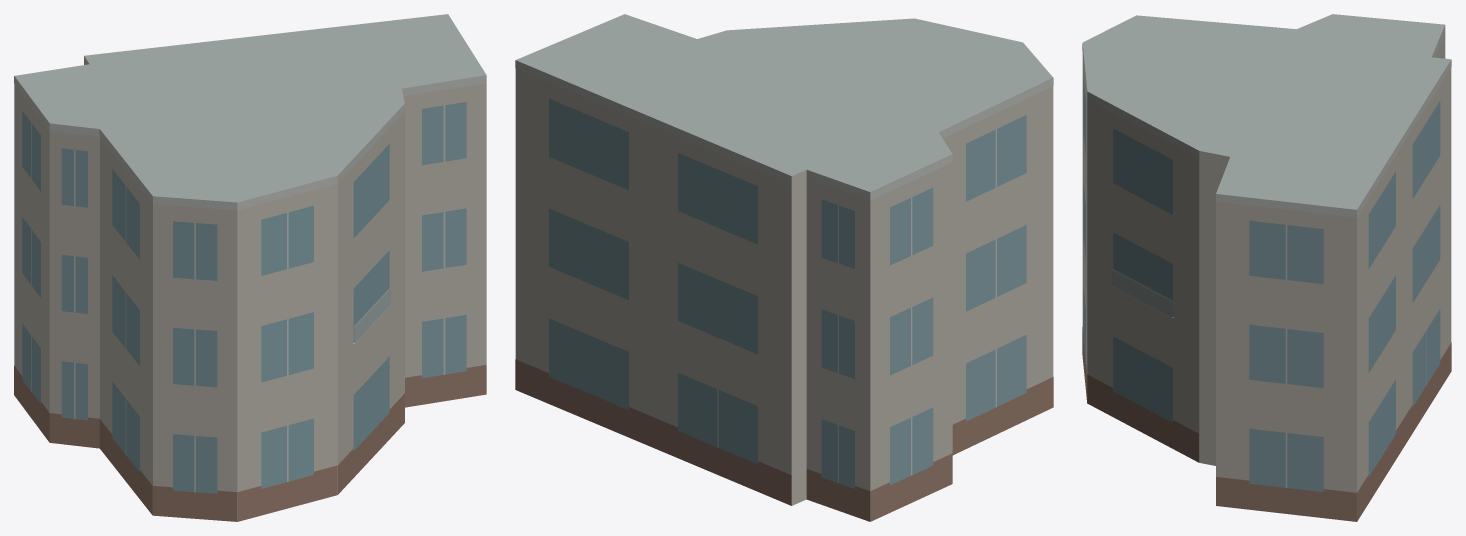
File: survey-upis-32535318.glb
3 renders of one model, left to right at view 1: azimuth 30°, elevation 25°; view 2: azimuth 150°, elevation 25°; view 3: azimuth 270°, elevation 25°, orthographic. The views are drawn at different scales.
Parts seen in each view (by area): view 1: survey-upis-32535318.tmp; view 2: survey-upis-32535318.tmp; view 3: survey-upis-32535318.tmp.
Boxes of the visible parts, x1,y1,x2,y2 form: survey-upis-32535318.tmp: (14, 14, 486, 521); survey-upis-32535318.tmp: (515, 14, 1053, 521); survey-upis-32535318.tmp: (1082, 14, 1451, 521).
Size of the model in its own units: 13.2 by 9.8 by 10.51.
